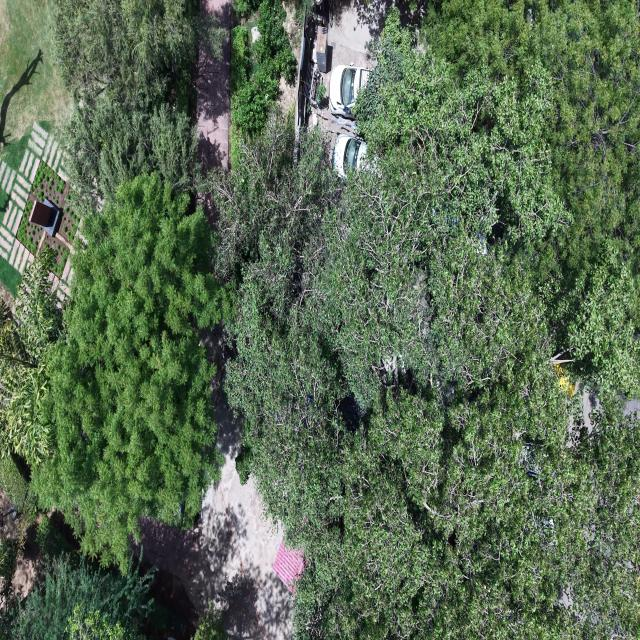DRY_AREA: (140, 332, 293, 639), (141, 393, 293, 639), (188, 397, 293, 639), (0, 0, 72, 295), (0, 123, 67, 294), (0, 0, 71, 159), (322, 0, 421, 88), (322, 0, 391, 89), (197, 0, 231, 173)
VEGETATION_TREE: (0, 0, 639, 639), (214, 3, 639, 638), (219, 146, 571, 637), (0, 0, 232, 639), (0, 0, 232, 638), (356, 8, 639, 394), (424, 2, 639, 394), (32, 174, 230, 566), (0, 251, 152, 639), (424, 2, 639, 258), (53, 0, 225, 198), (0, 512, 188, 639), (215, 115, 340, 303), (0, 249, 62, 465), (5, 554, 153, 639), (0, 0, 71, 168), (231, 0, 296, 136), (16, 162, 79, 278), (16, 200, 75, 278), (253, 0, 297, 84), (232, 69, 279, 135), (0, 455, 37, 529), (66, 606, 135, 639), (34, 511, 78, 560), (0, 537, 21, 639), (195, 12, 228, 60), (32, 161, 65, 205), (230, 26, 251, 94), (17, 200, 42, 254), (193, 602, 227, 639), (0, 539, 18, 598), (2, 131, 30, 167), (0, 539, 17, 595), (0, 257, 21, 295), (287, 0, 312, 25), (233, 0, 259, 18), (0, 188, 9, 214), (317, 82, 327, 104)
